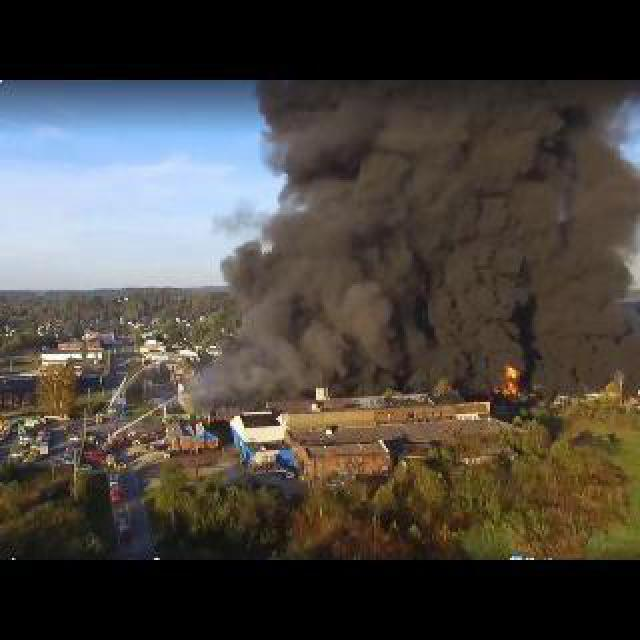Fire: (492, 360, 526, 398)
Smoke: (228, 80, 634, 388)
